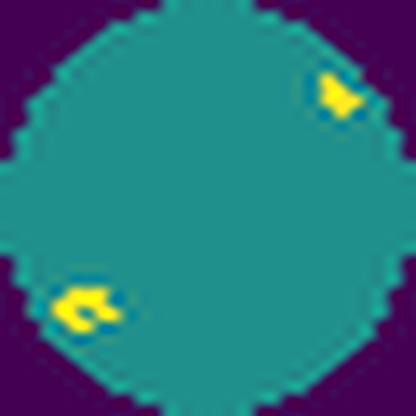Loc: (47, 279, 128, 339), (310, 66, 371, 128)
